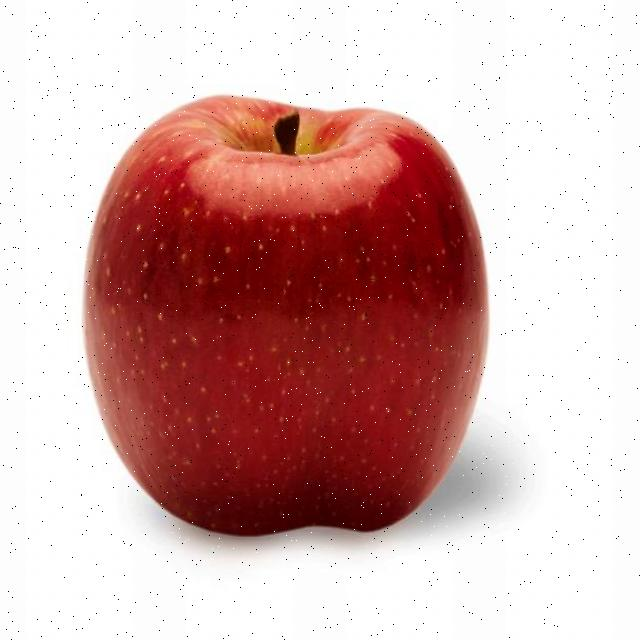HEALTHY: (92, 70, 490, 570)
